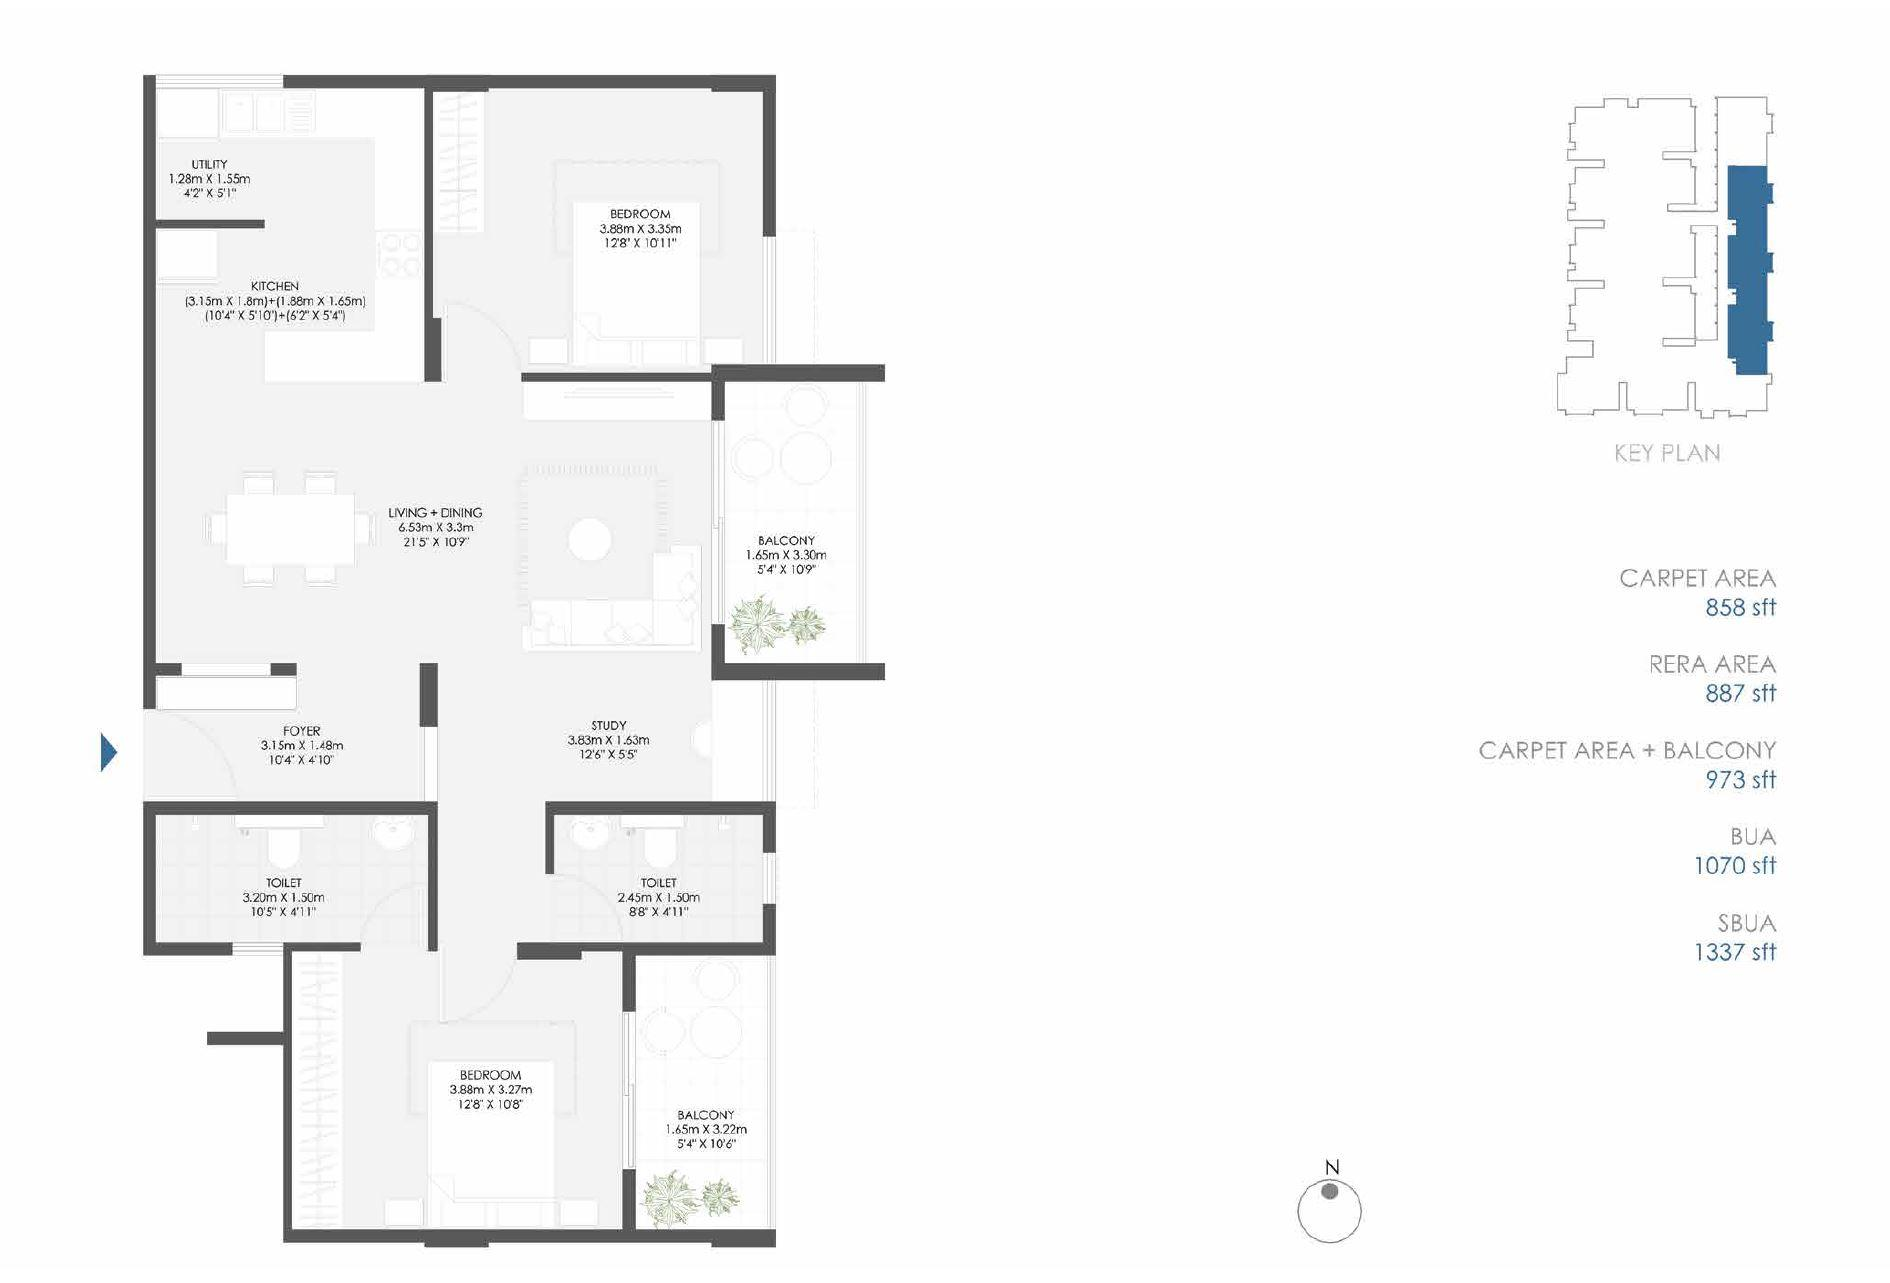Balcony: (719, 372, 863, 659), (634, 949, 770, 1241)
Bed: (574, 202, 702, 379)
Bedroom: (434, 86, 766, 379), (306, 951, 623, 1229), (424, 1058, 553, 1234)
Dining Room: (152, 387, 493, 669)
Dining table: (205, 460, 378, 593)
Foyer: (150, 686, 428, 808)
Kitchen: (162, 218, 422, 384)
Living Room: (483, 377, 716, 654)
Sofa: (520, 600, 694, 646), (651, 536, 704, 660)
Wardrobe: (288, 949, 338, 1229), (424, 82, 494, 231), (156, 676, 291, 707)
commode: (266, 826, 304, 871), (646, 823, 676, 866)
door: (147, 715, 248, 800), (348, 862, 430, 954), (609, 1002, 649, 1186), (444, 946, 523, 1034), (434, 298, 518, 377), (706, 410, 736, 630), (554, 868, 626, 944)
fridge: (156, 229, 223, 284)
sink: (222, 92, 322, 142), (368, 816, 414, 853), (574, 816, 611, 853)
stove: (374, 222, 427, 282)
study: (442, 660, 767, 800)
toilet: (152, 812, 428, 944), (548, 812, 766, 942)
tv: (563, 384, 690, 418)
utility: (157, 92, 418, 216)
washing-machine: (156, 92, 219, 142)
